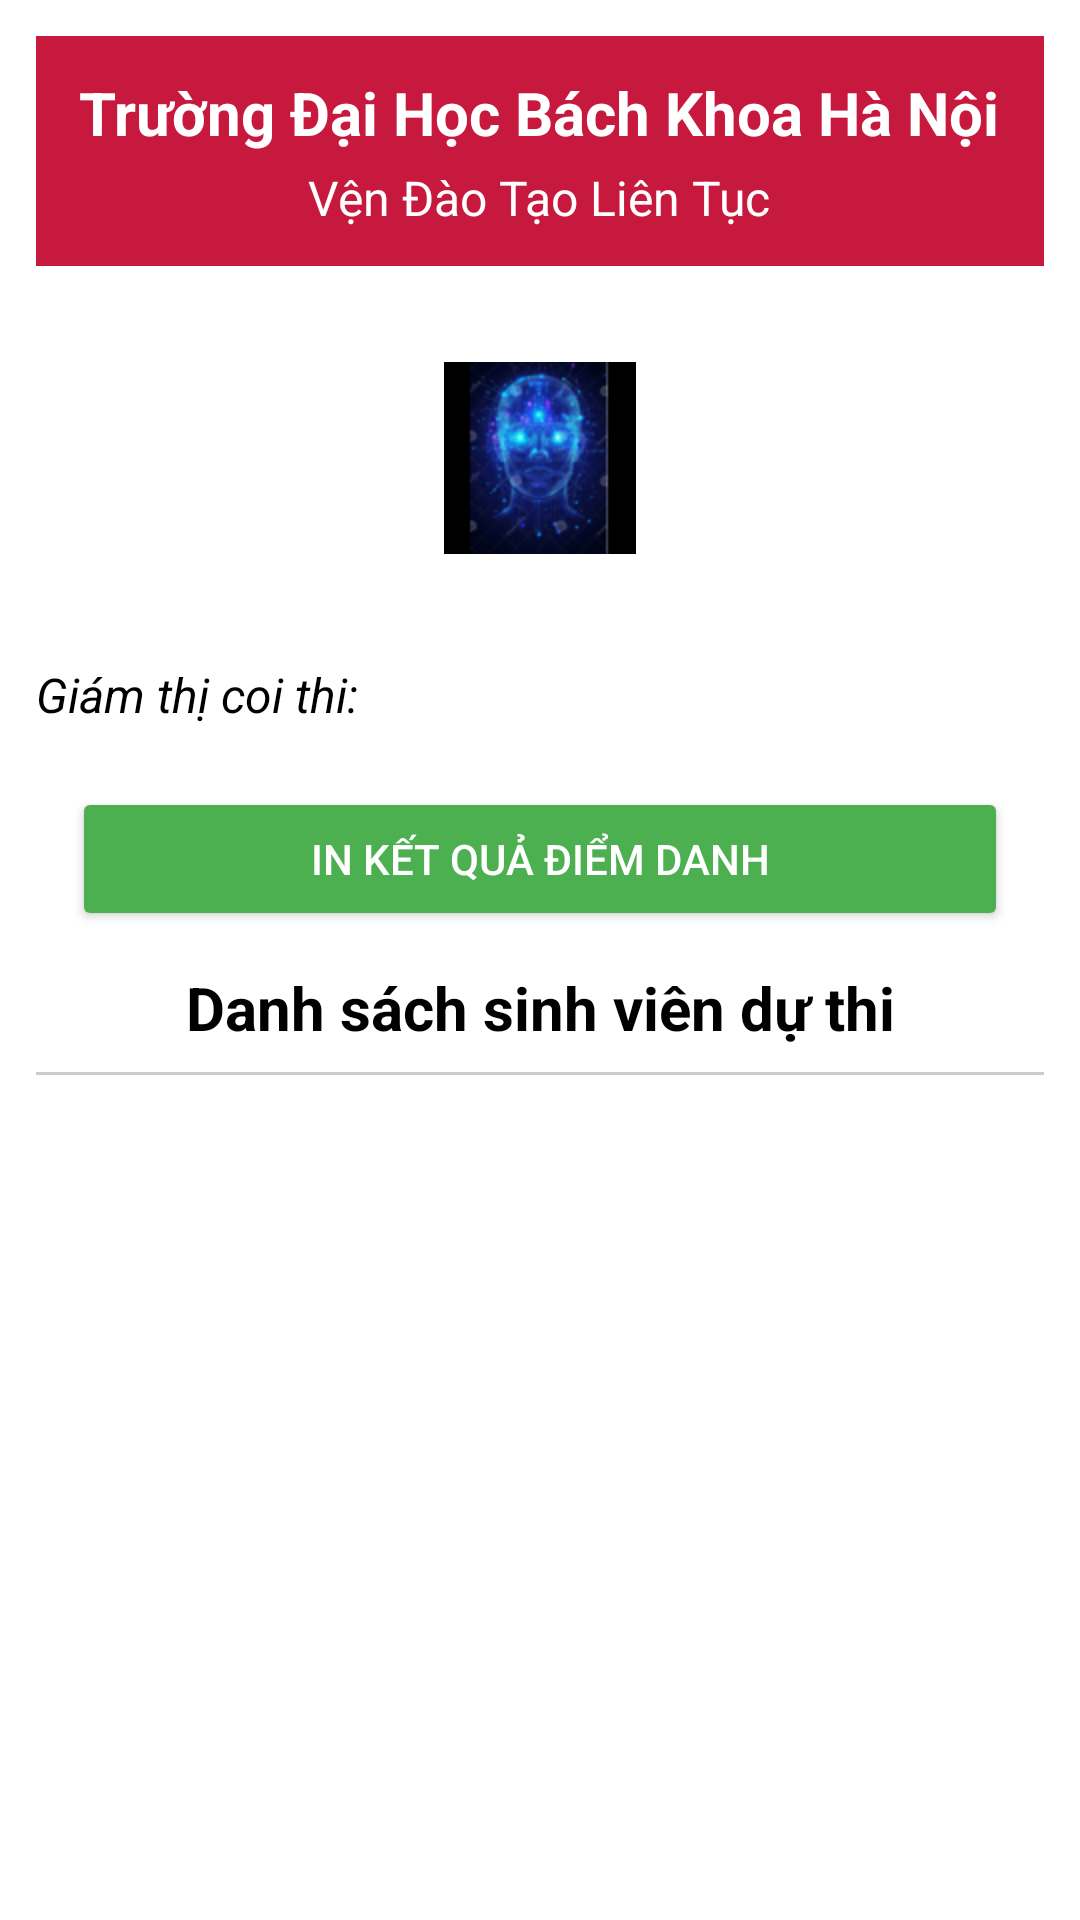

Locate icon controls on the screen. Image size 1080 x 1920, boxes as (x1, y1, x2, y2).
Điểm danh bằng khuôn mặt: (444, 362, 636, 554)
